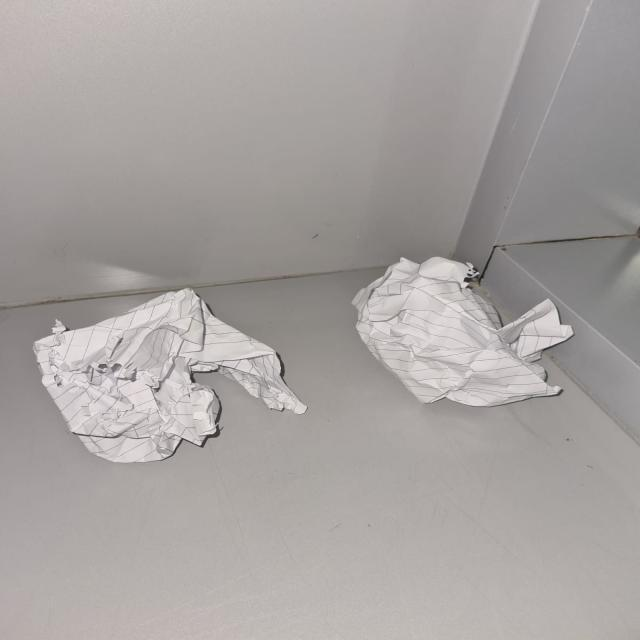Paper: (33, 289, 313, 458), (350, 258, 570, 400)
